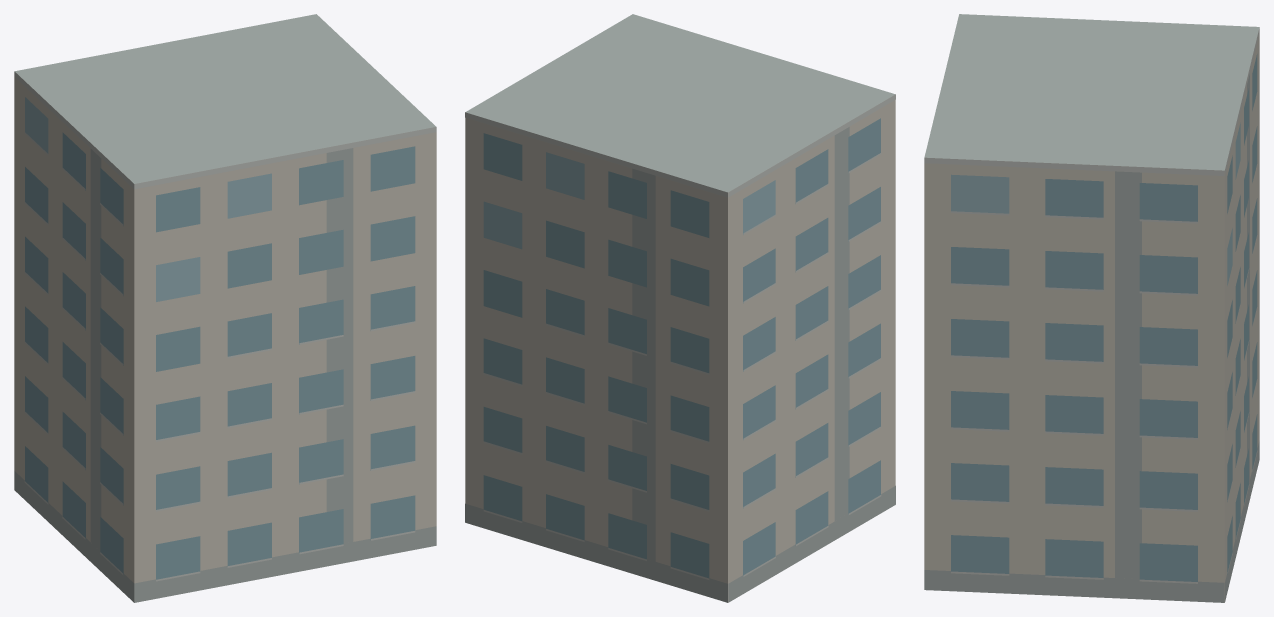
File: survey-upis-32914601.glb
The picture shows the model from 3 angles, left to right: view 1: azimuth 30°, elevation 25°; view 2: azimuth 150°, elevation 25°; view 3: azimuth 270°, elevation 25°; orthographic projection. The views are drawn at different scales.
Parts seen in each view (by area): view 1: survey-upis-32914601.tmp; view 2: survey-upis-32914601.tmp; view 3: survey-upis-32914601.tmp.
Part boxes in pixels (x1,y1,x2,y2): survey-upis-32914601.tmp: (14,14,436,602); survey-upis-32914601.tmp: (465,14,895,602); survey-upis-32914601.tmp: (924,14,1259,602).
Bounding box in the file's own units: 14.77 × 19 × 13.37.
